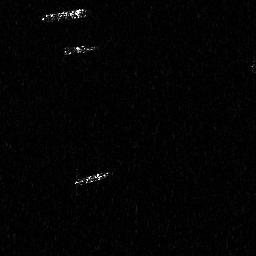ship: (72, 166, 114, 195), (39, 6, 88, 23), (62, 43, 97, 55)
